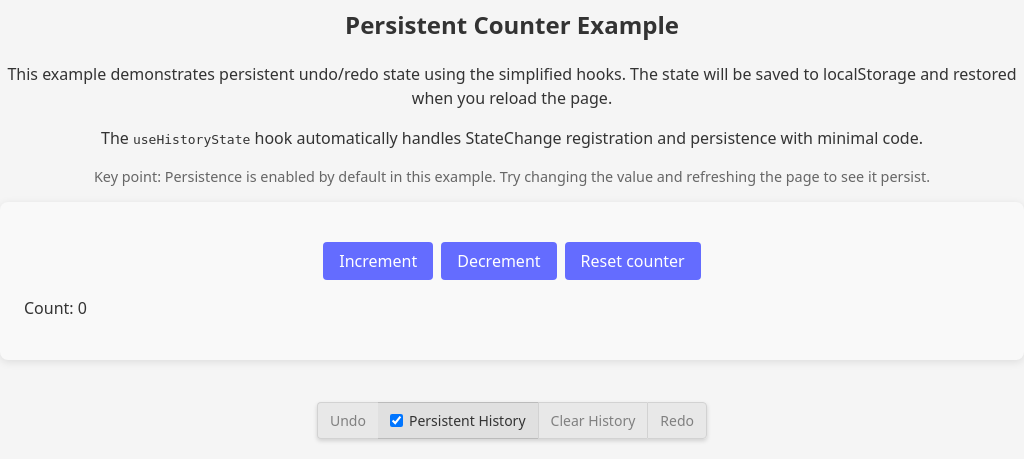
Test: PersistentCounter component › supports undo/redo operations
This screenshot has width=1024, height=459.
# Increment a few times
Click the button "Increment" at (378, 261), box [323,242,433,280]
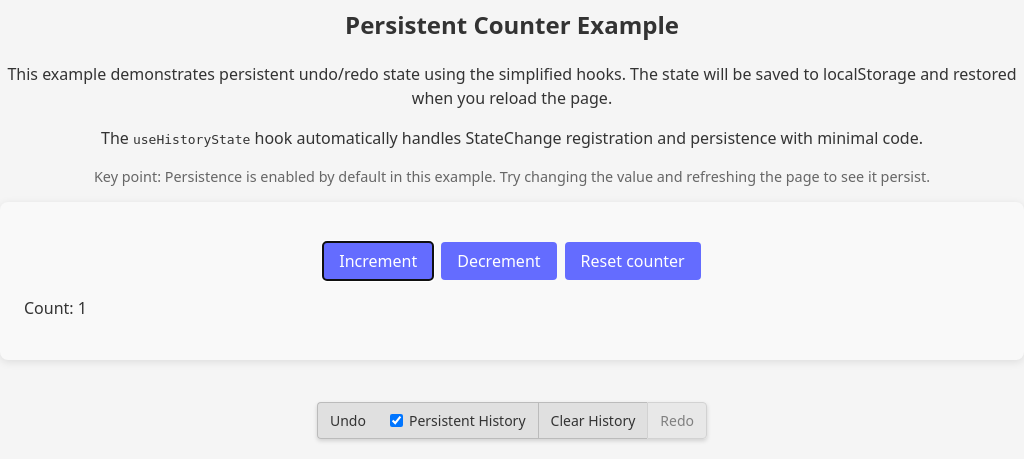
Click the button "Increment" at (378, 261), box [323,242,433,280]
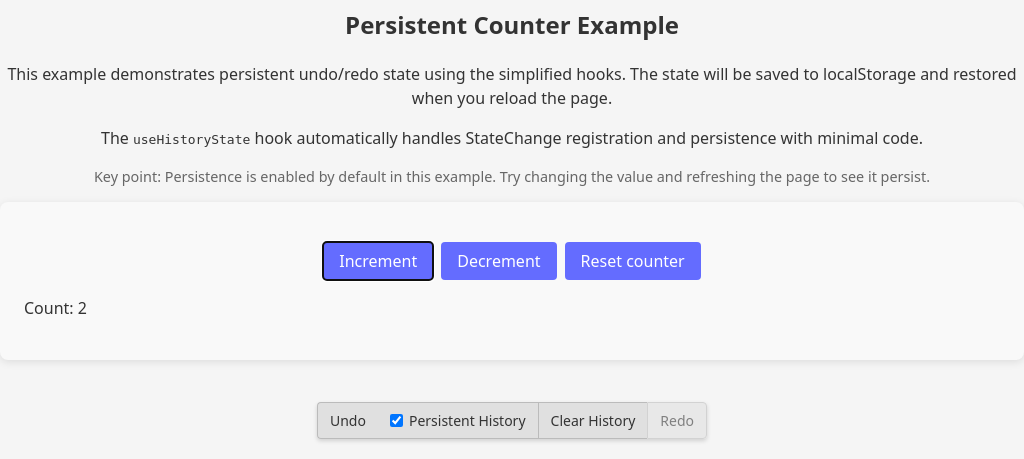
Click the button "Increment" at (378, 261), box [323,242,433,280]
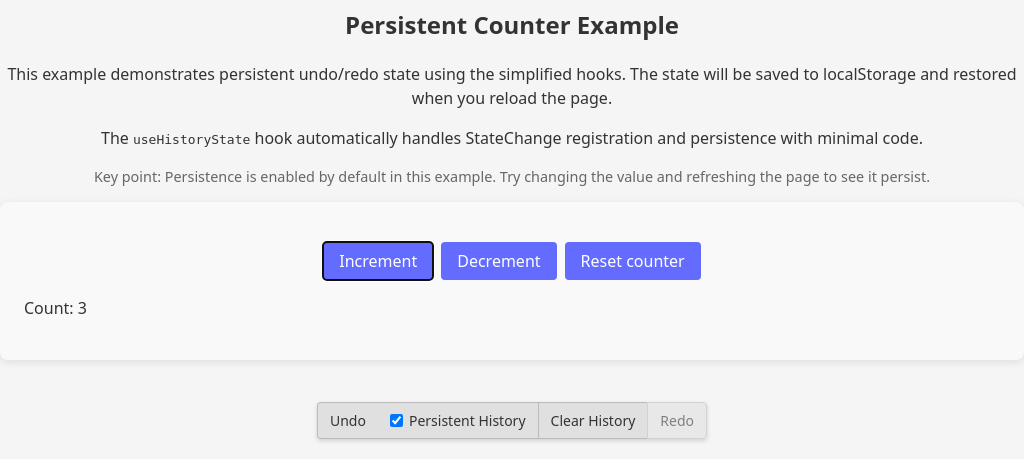
Now the text "Count: 3" is shown, box [24,297,87,319]
# Undo once
Click the button "Undo" at (348, 421), box [317,402,378,439]
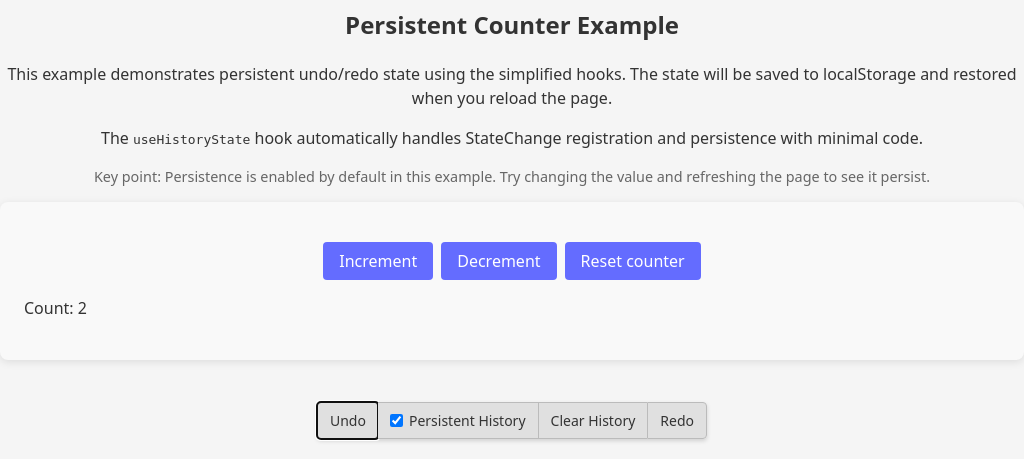
Now the text "Count: 2" is shown, box [24,297,87,319]
# Undo again
Click the button "Undo" at (348, 421), box [317,402,378,439]
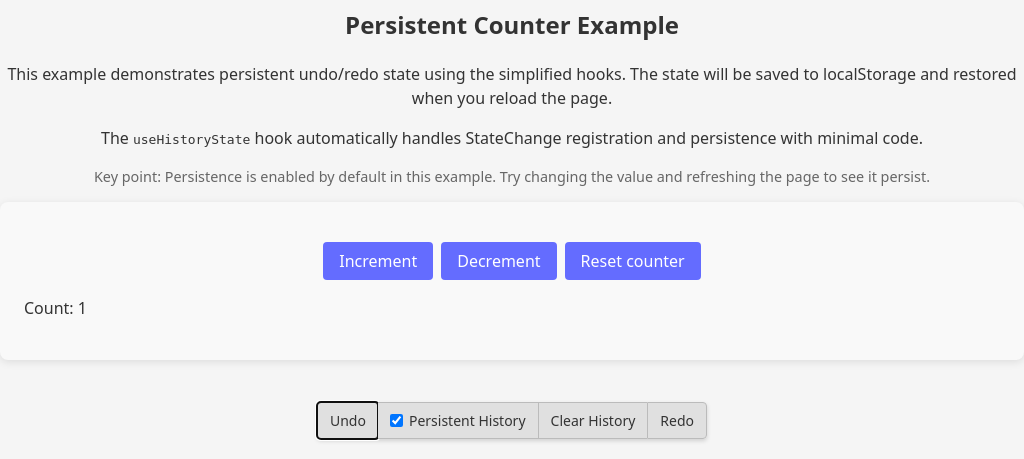
Now the text "Count: 1" is shown, box [24,297,87,319]
Click the button "Redo" at (677, 421), box [647,402,707,439]
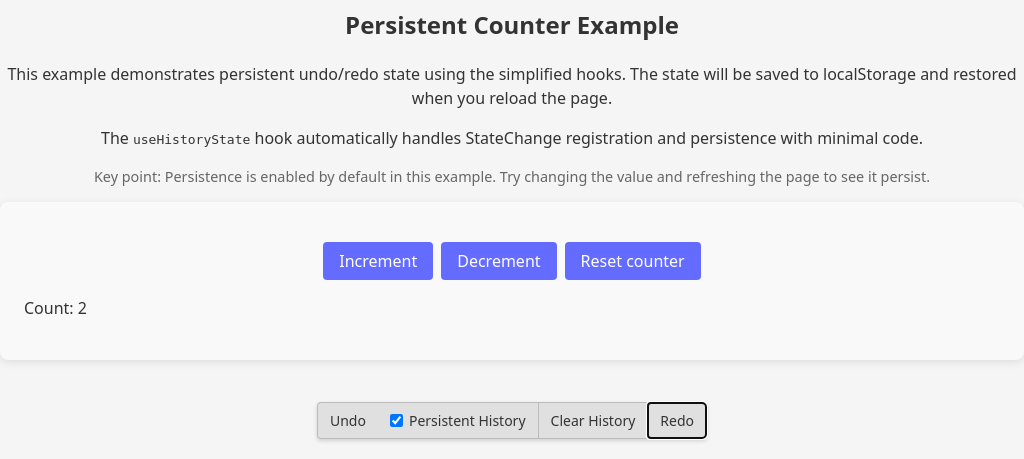
Now the text "Count: 2" is shown, box [24,297,87,319]
